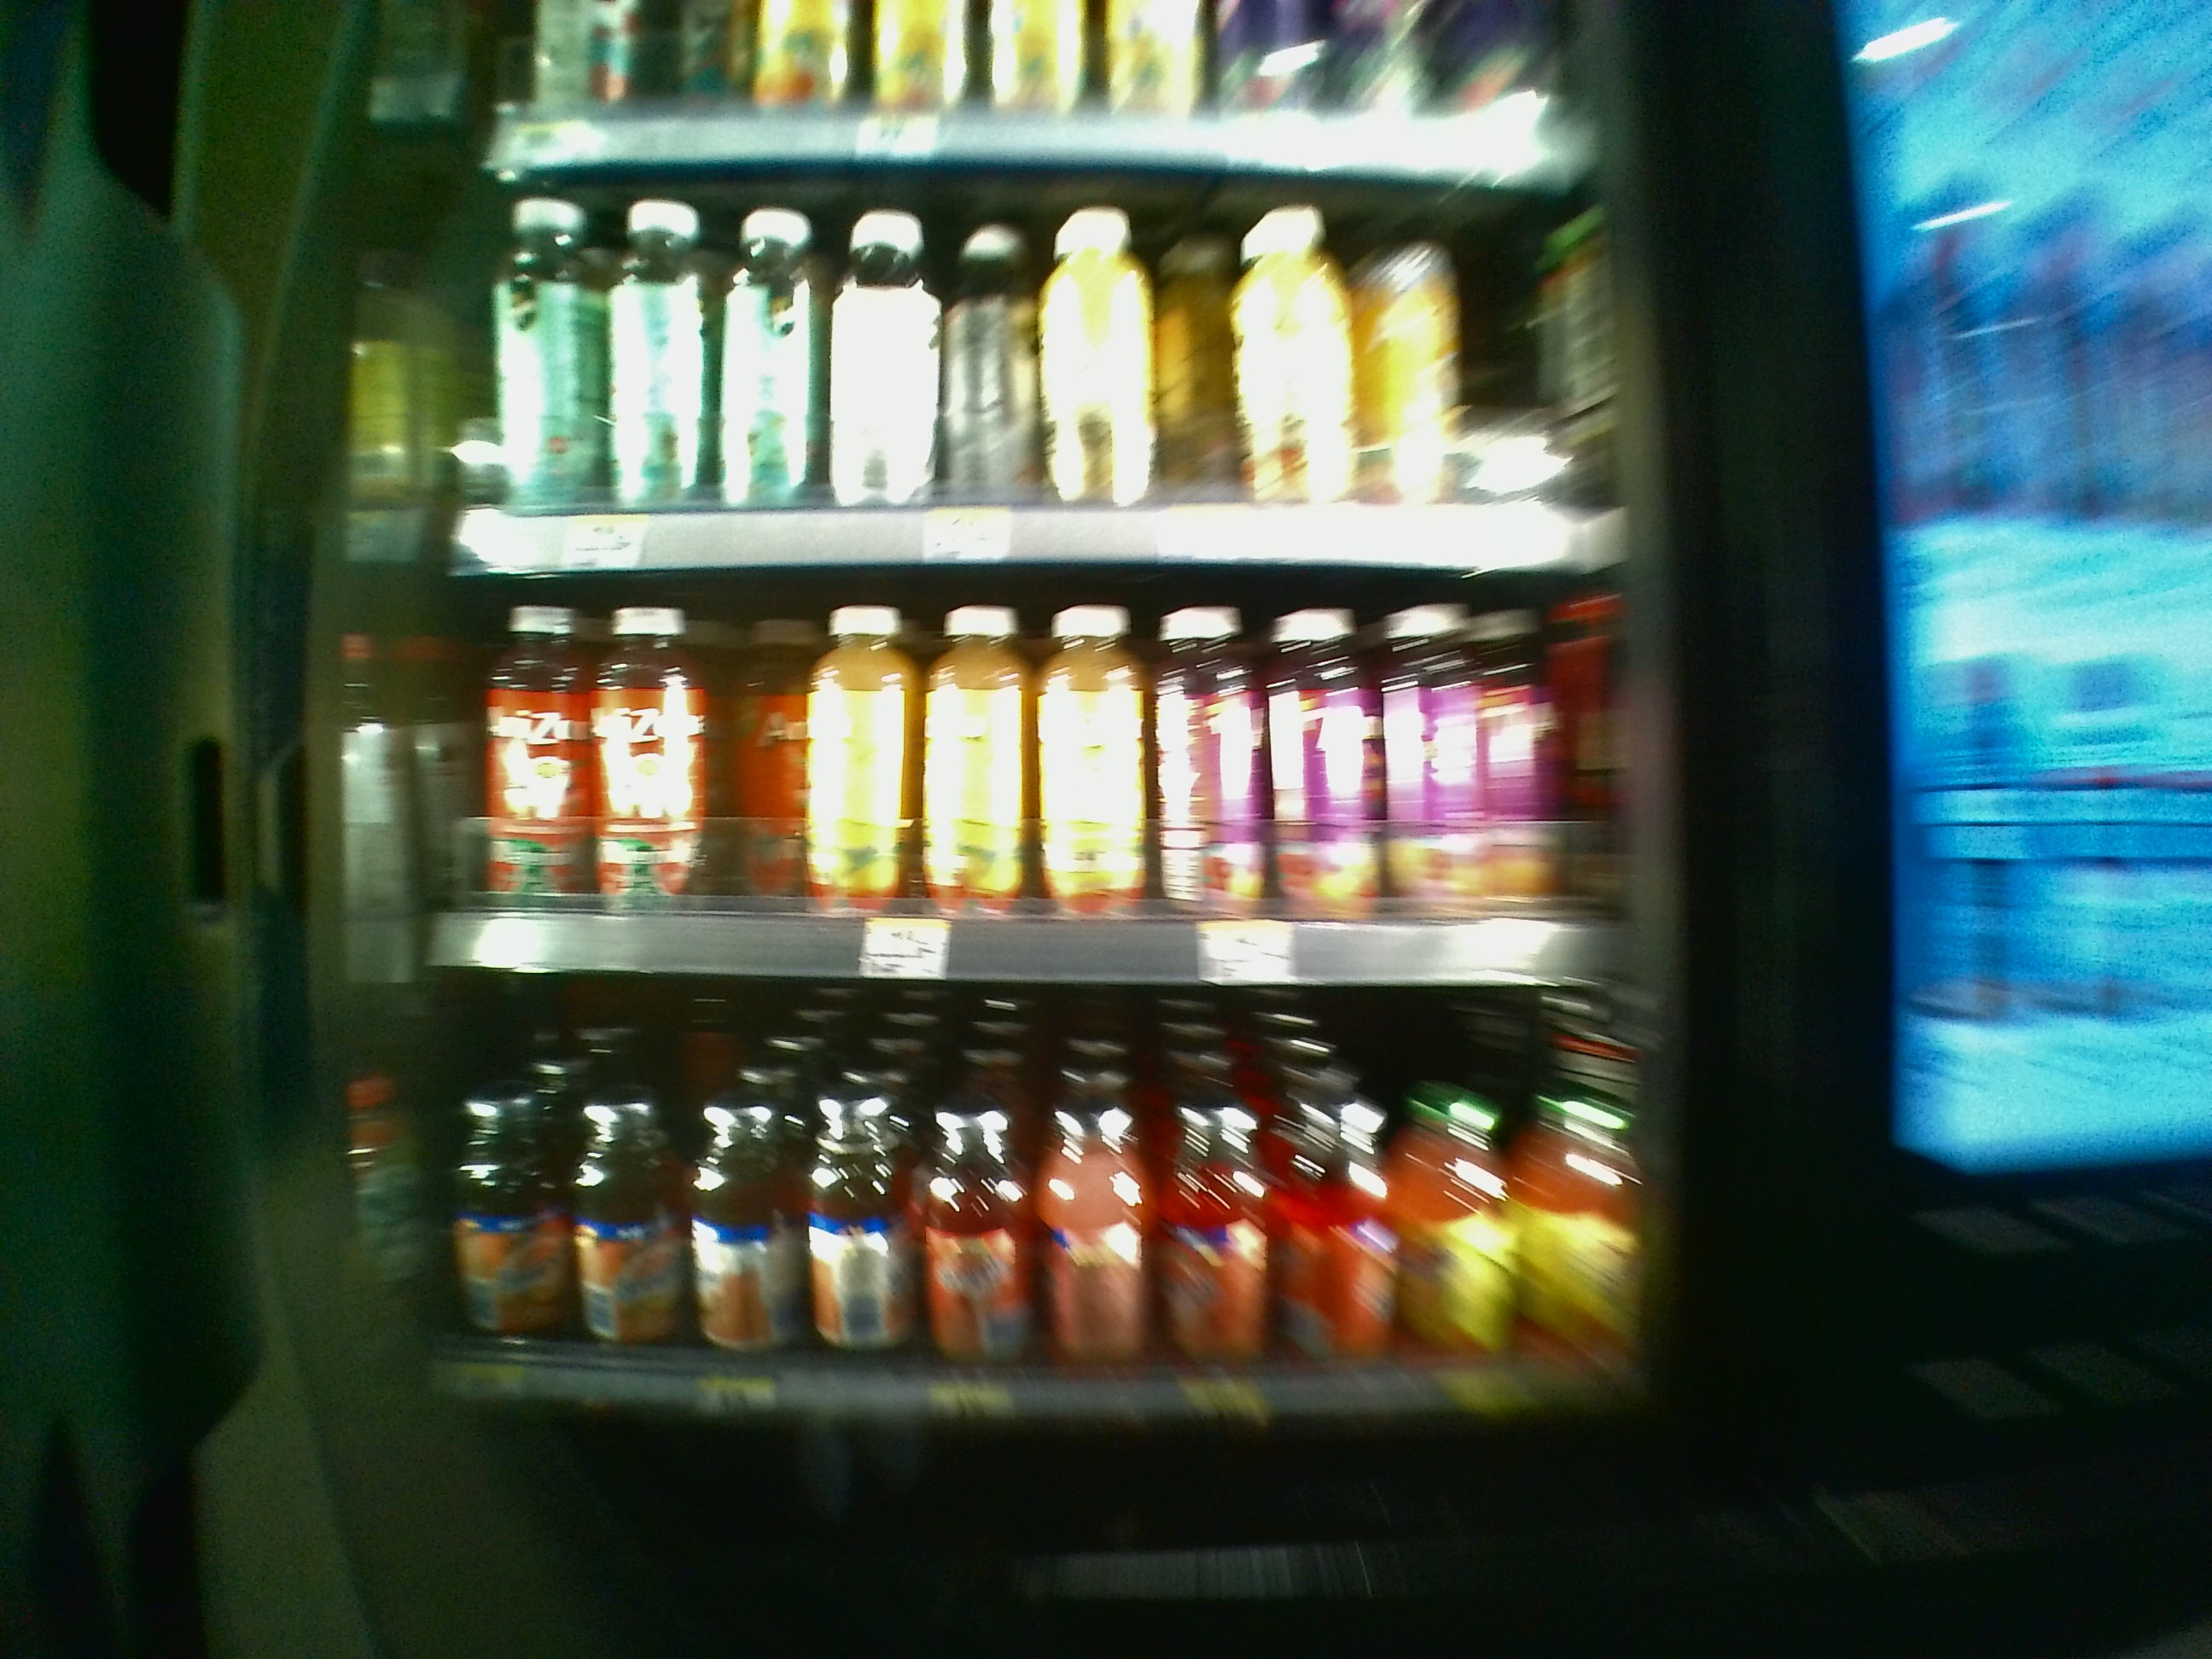shelf: (432, 1004, 1630, 1429), (428, 586, 1623, 990), (441, 171, 1609, 573)
